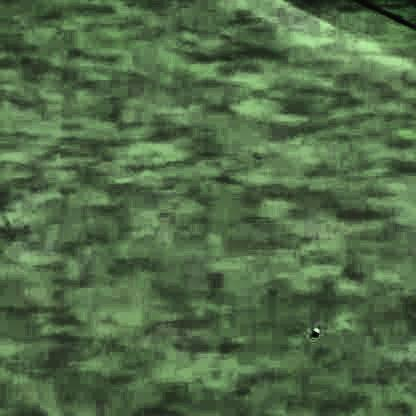golfball: (310, 323, 317, 333)
